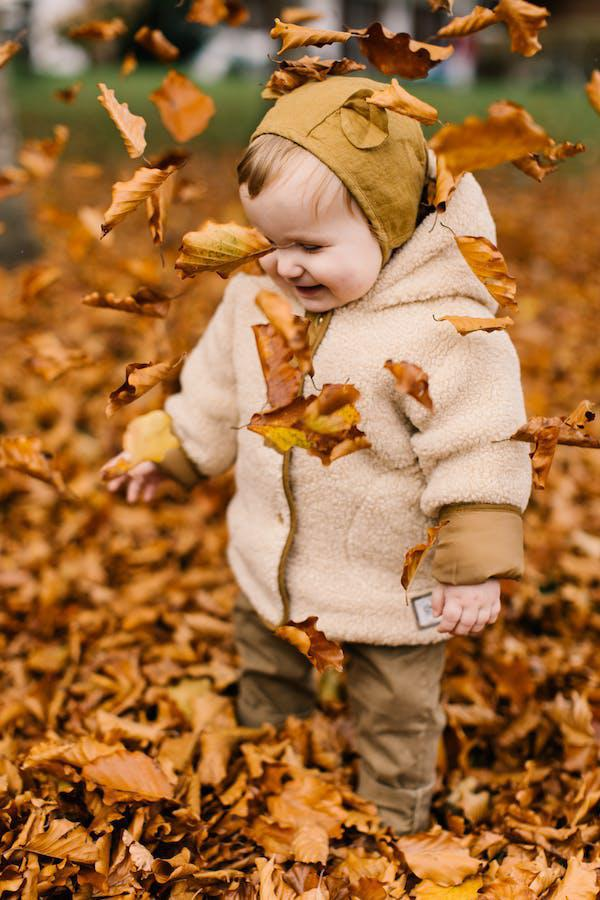child: (93, 62, 550, 847)
